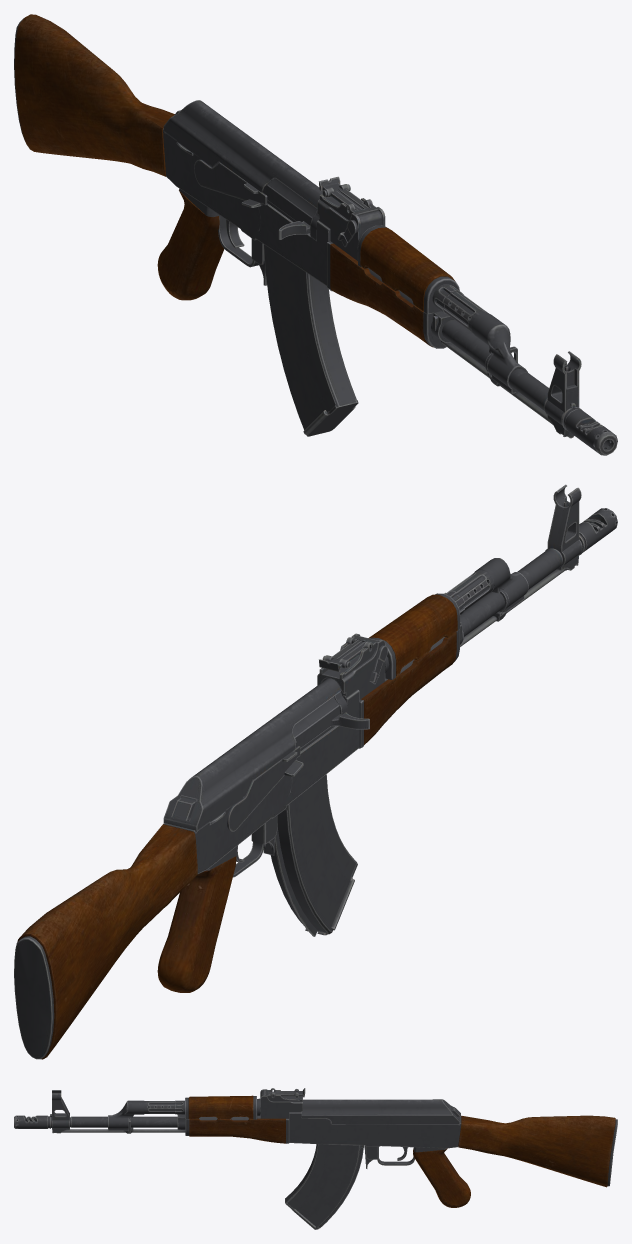
3 renders of one model, top to bottom at view 1: azimuth 30°, elevation 25°; view 2: azimuth 150°, elevation 25°; view 3: azimuth 270°, elevation 25°, orthographic. The views are drawn at different scales.
Visible parts, largest first — view 1: ak47_ak47_0; view 2: ak47_ak47_0; view 3: ak47_ak47_0.
Part boxes in pixels (x1,y1,x2,y2): ak47_ak47_0: (14,14,617,455); ak47_ak47_0: (14,484,617,1059); ak47_ak47_0: (14,1088,617,1229).
Size of the model in its own units: 0.0619 by 0.237 by 0.944.
1 material, 1 textured.
